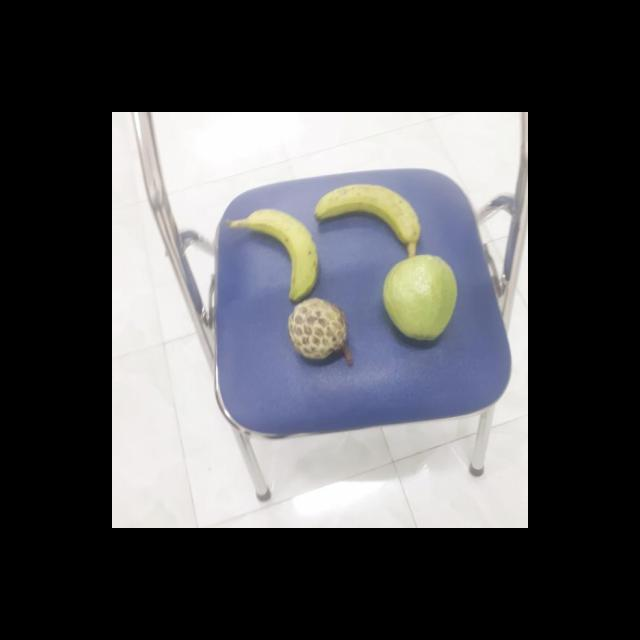Sakya fruit: (290, 298, 354, 362)
banana: (317, 184, 427, 257), (242, 209, 324, 300)
guava: (384, 255, 462, 340)
